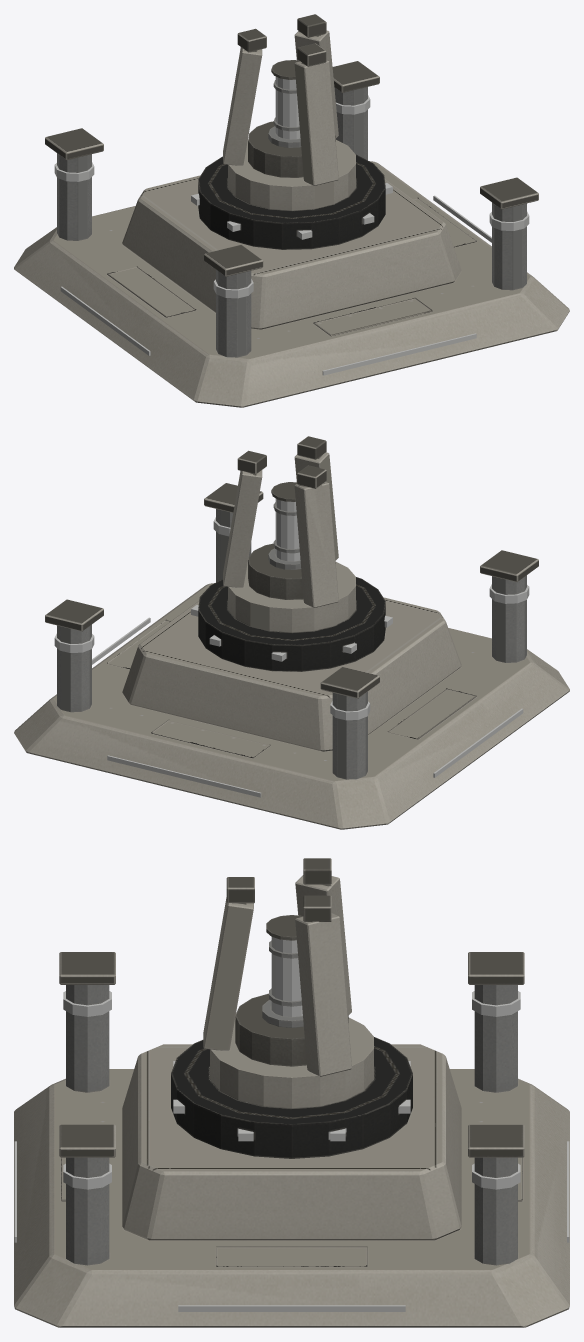
Rendered from ord_phalanx.fbx.
The picture shows the model from 3 angles, top to bottom: view 1: azimuth 30°, elevation 25°; view 2: azimuth 150°, elevation 25°; view 3: azimuth 270°, elevation 25°; orthographic projection. The views are drawn at different scales.
Visible parts, largest first — view 1: base_bar, base_glow_running_bar, base_glow_power_bar, core_glow_power_bar, core_bar; view 2: base_bar, base_glow_running_bar, base_glow_power_bar, core_glow_power_bar, core_bar; view 3: base_bar, base_glow_running_bar, base_glow_power_bar, core_glow_power_bar, core_bar.
Boxes of the visible parts, bbox=[...] form: base_bar: bbox=[14, 14, 569, 407]; base_glow_running_bar: bbox=[60, 183, 491, 375]; base_glow_power_bar: bbox=[54, 95, 529, 298]; core_glow_power_bar: bbox=[275, 76, 300, 139]; core_bar: bbox=[268, 60, 301, 147]; base_bar: bbox=[14, 436, 569, 829]; base_glow_running_bar: bbox=[92, 605, 523, 797]; base_glow_power_bar: bbox=[54, 517, 529, 720]; core_glow_power_bar: bbox=[275, 498, 300, 561]; core_bar: bbox=[268, 482, 301, 569]; base_bar: bbox=[14, 858, 569, 1327]; base_glow_running_bar: bbox=[14, 1061, 569, 1311]; base_glow_power_bar: bbox=[63, 991, 520, 1189]; core_glow_power_bar: bbox=[271, 937, 302, 1017]; core_bar: bbox=[262, 915, 303, 1027].
Size of the model in its own units: 1470 by 1158 by 1470.
Materials: 2 (2 with a texture image).
